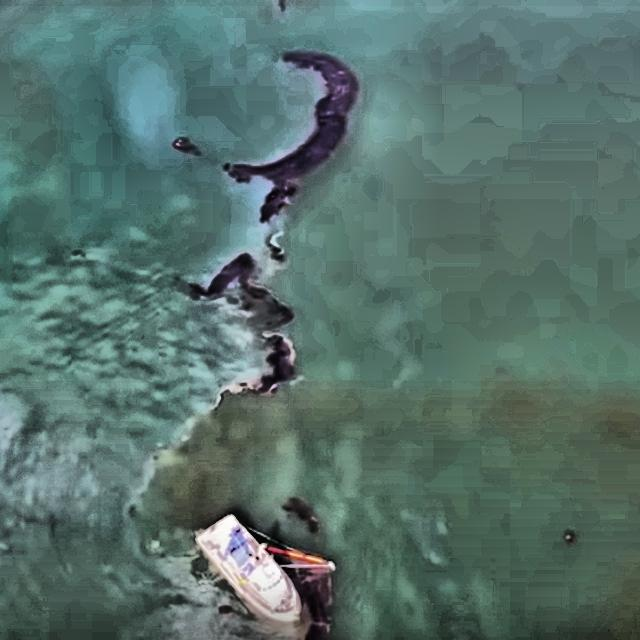truecolor: (224, 51, 359, 222), (248, 527, 334, 640), (189, 254, 294, 328), (219, 334, 296, 404), (283, 499, 319, 534), (173, 137, 201, 156), (223, 163, 228, 170)
